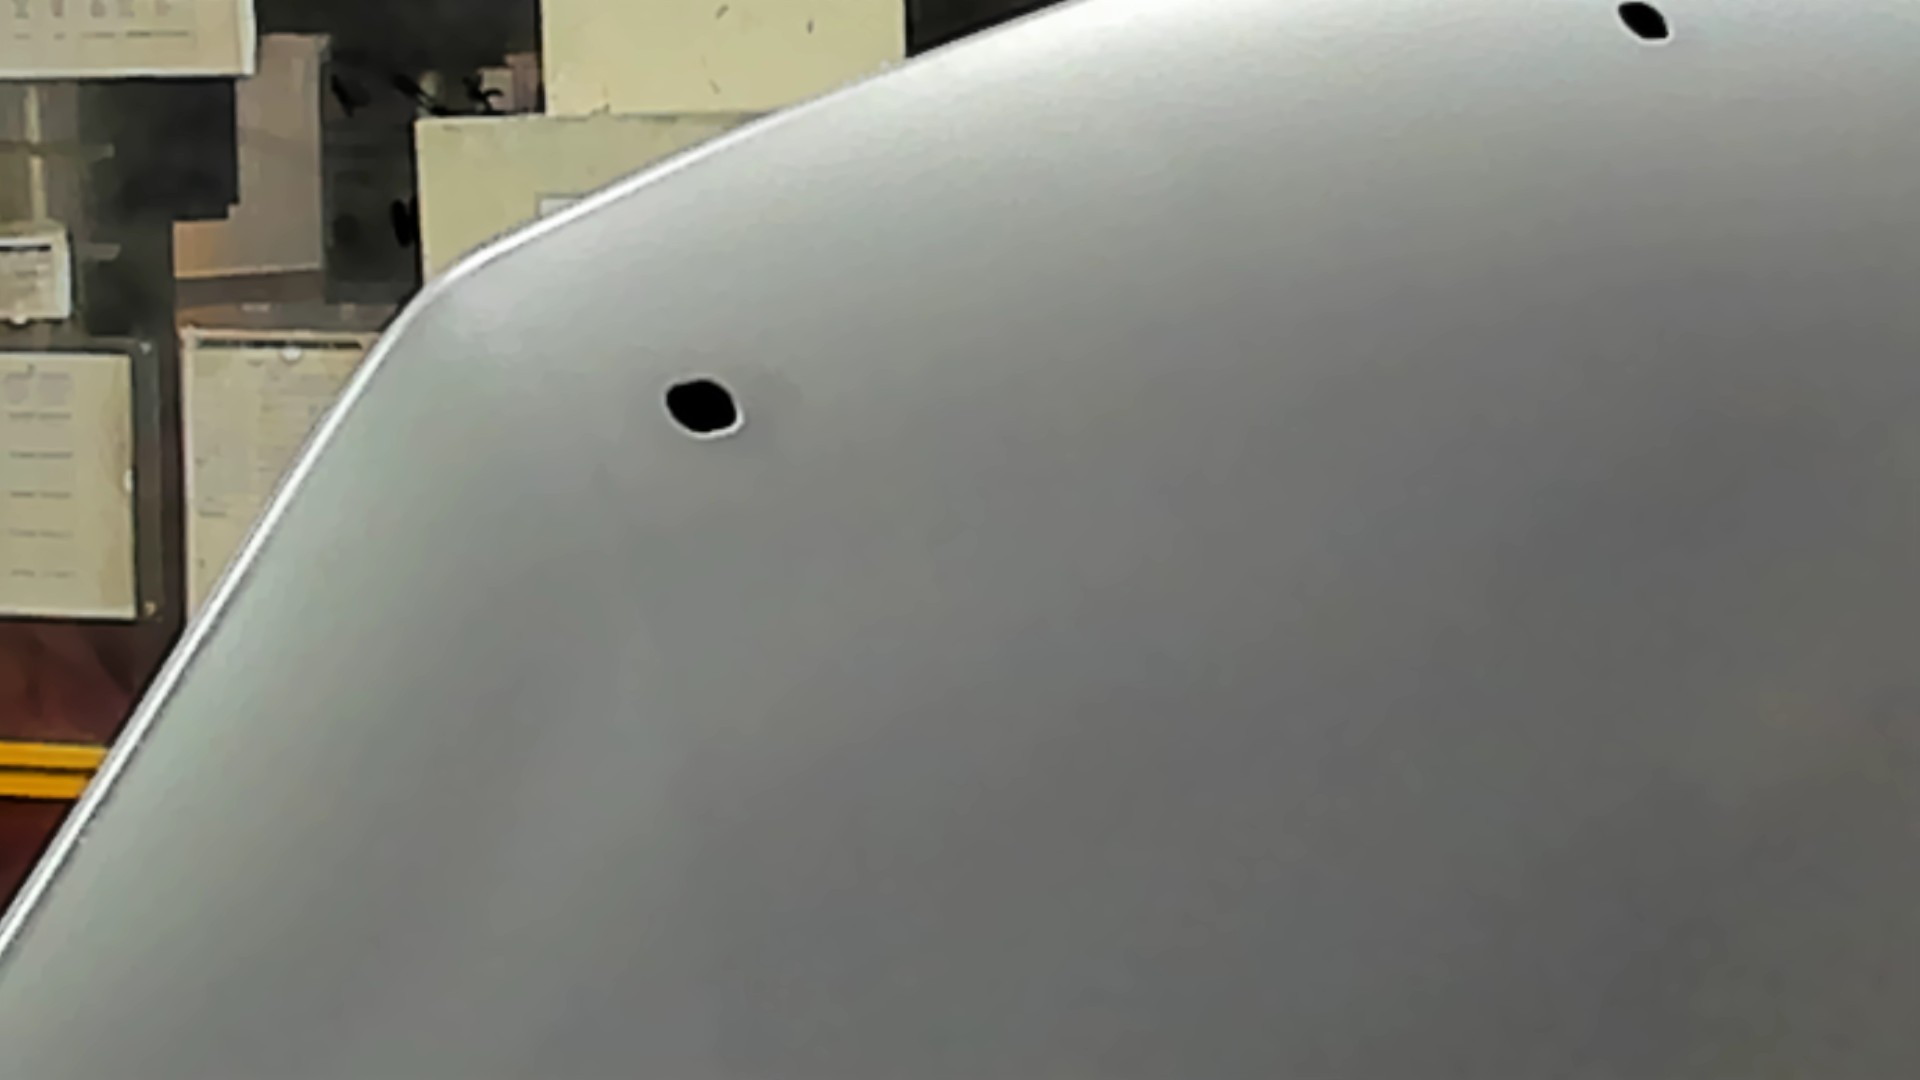amorfo: (659, 375, 752, 440), (1613, 1, 1677, 50)
capo: (887, 164, 1920, 1080)
